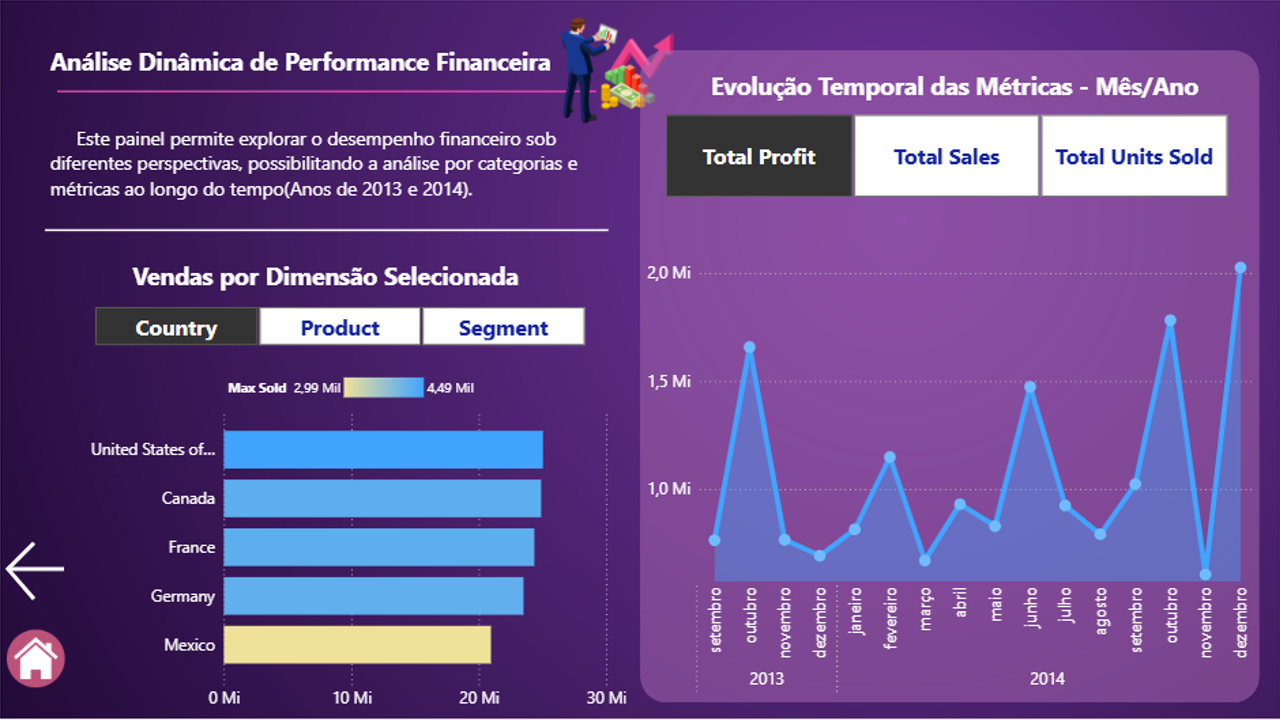

This screenshot's page, from the dashboard's own definition file:
{"tool":"powerbi","page":{"name":"Análise de Performance Financeira","canvas":[1280,720],"ordinal":4},"visuals":[{"type":"image","box":[0,0,1280.2,720],"z":0},{"type":"textbox","title":"Caixa de texto-titulo detalhe vendas","box":[44.6,38.9,528.5,51.8],"z":1000},{"type":"shape","title":"Forma-linha traçada","box":[57.6,70.6,538.6,41.8],"z":2000},{"type":"image","title":"Imagem Homem","box":[525.6,15.8,213.1,108],"z":3000},{"type":"slicer","fields":{"Values":["Categoria.Categoria"]},"box":[69.1,301,538.6,51.8],"z":5000},{"type":"shape","title":"Forma-fundo graficos","box":[639.4,50.4,619.2,653.8],"z":8000},{"type":"slicer","fields":{"Values":["Parâmetro_valores.Parâmetro_valores"]},"box":[639.4,106.6,610.6,97.9],"z":8003},{"type":"textbox","box":[125.3,254.9,400.3,66.2],"z":8004},{"type":"textbox","box":[688.3,63.4,524.2,47.5],"z":8005},{"type":"image","title":"Imagem-Home Page","box":[7.2,617.8,57.6,83.5],"z":8006},{"type":"actionButton","title":"Botão-Voltar Pg.Detalhes","box":[0,532.8,72,80.6],"z":8007},{"type":"textbox","box":[44.6,100.8,563,121],"z":8008},{"type":"shape","box":[44.6,207.4,563,47.5],"z":8009},{"type":"lineChart","fields":{"Y":["financials.Total Profit"],"Category":["Calendar.Date.Variation.Hierarquia de datas.Ano","Calendar.Date.Variation.Hierarquia de datas.Mês"]},"box":[640.8,216,617.8,488.2],"z":8010},{"type":"barChart","fields":{"Category":["financials.Country"],"Y":["Sum(financials. Sales)"]},"box":[70.6,370.1,560.2,349.9],"z":8011}]}

Visuals, with their boxes in screenshot pixels (x1, y1, x2, y2), scaled from the page's 1280x720 canvas onto the 1280x720 screenshot:
image: [x1=0, y1=0, x2=1279, y2=719]
"Caixa de texto-titulo detalhe vendas" textbox: [x1=45, y1=39, x2=573, y2=91]
"Forma-linha traçada" shape: [x1=58, y1=71, x2=596, y2=112]
"Imagem Homem" image: [x1=526, y1=16, x2=739, y2=124]
slicer - Categoria.Categoria: [x1=69, y1=301, x2=608, y2=353]
"Forma-fundo graficos" shape: [x1=639, y1=50, x2=1259, y2=704]
slicer - Parâmetro_valores.Parâmetro_valores: [x1=639, y1=107, x2=1250, y2=204]
textbox: [x1=125, y1=255, x2=526, y2=321]
textbox: [x1=688, y1=63, x2=1212, y2=111]
"Imagem-Home Page" image: [x1=7, y1=618, x2=65, y2=701]
"Botão-Voltar Pg.Detalhes" actionButton: [x1=0, y1=533, x2=72, y2=613]
textbox: [x1=45, y1=101, x2=608, y2=222]
shape: [x1=45, y1=207, x2=608, y2=255]
lineChart - financials.Total Profit x Calendar.Date.Variation.Hierarquia de datas.Ano: [x1=641, y1=216, x2=1259, y2=704]
barChart - financials.Country x Sum(financials. Sales): [x1=71, y1=370, x2=631, y2=719]
